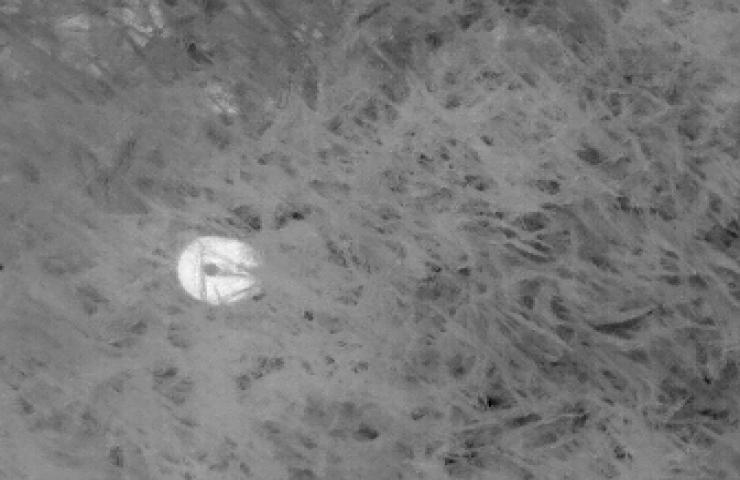landmines: (174, 230, 268, 306)
